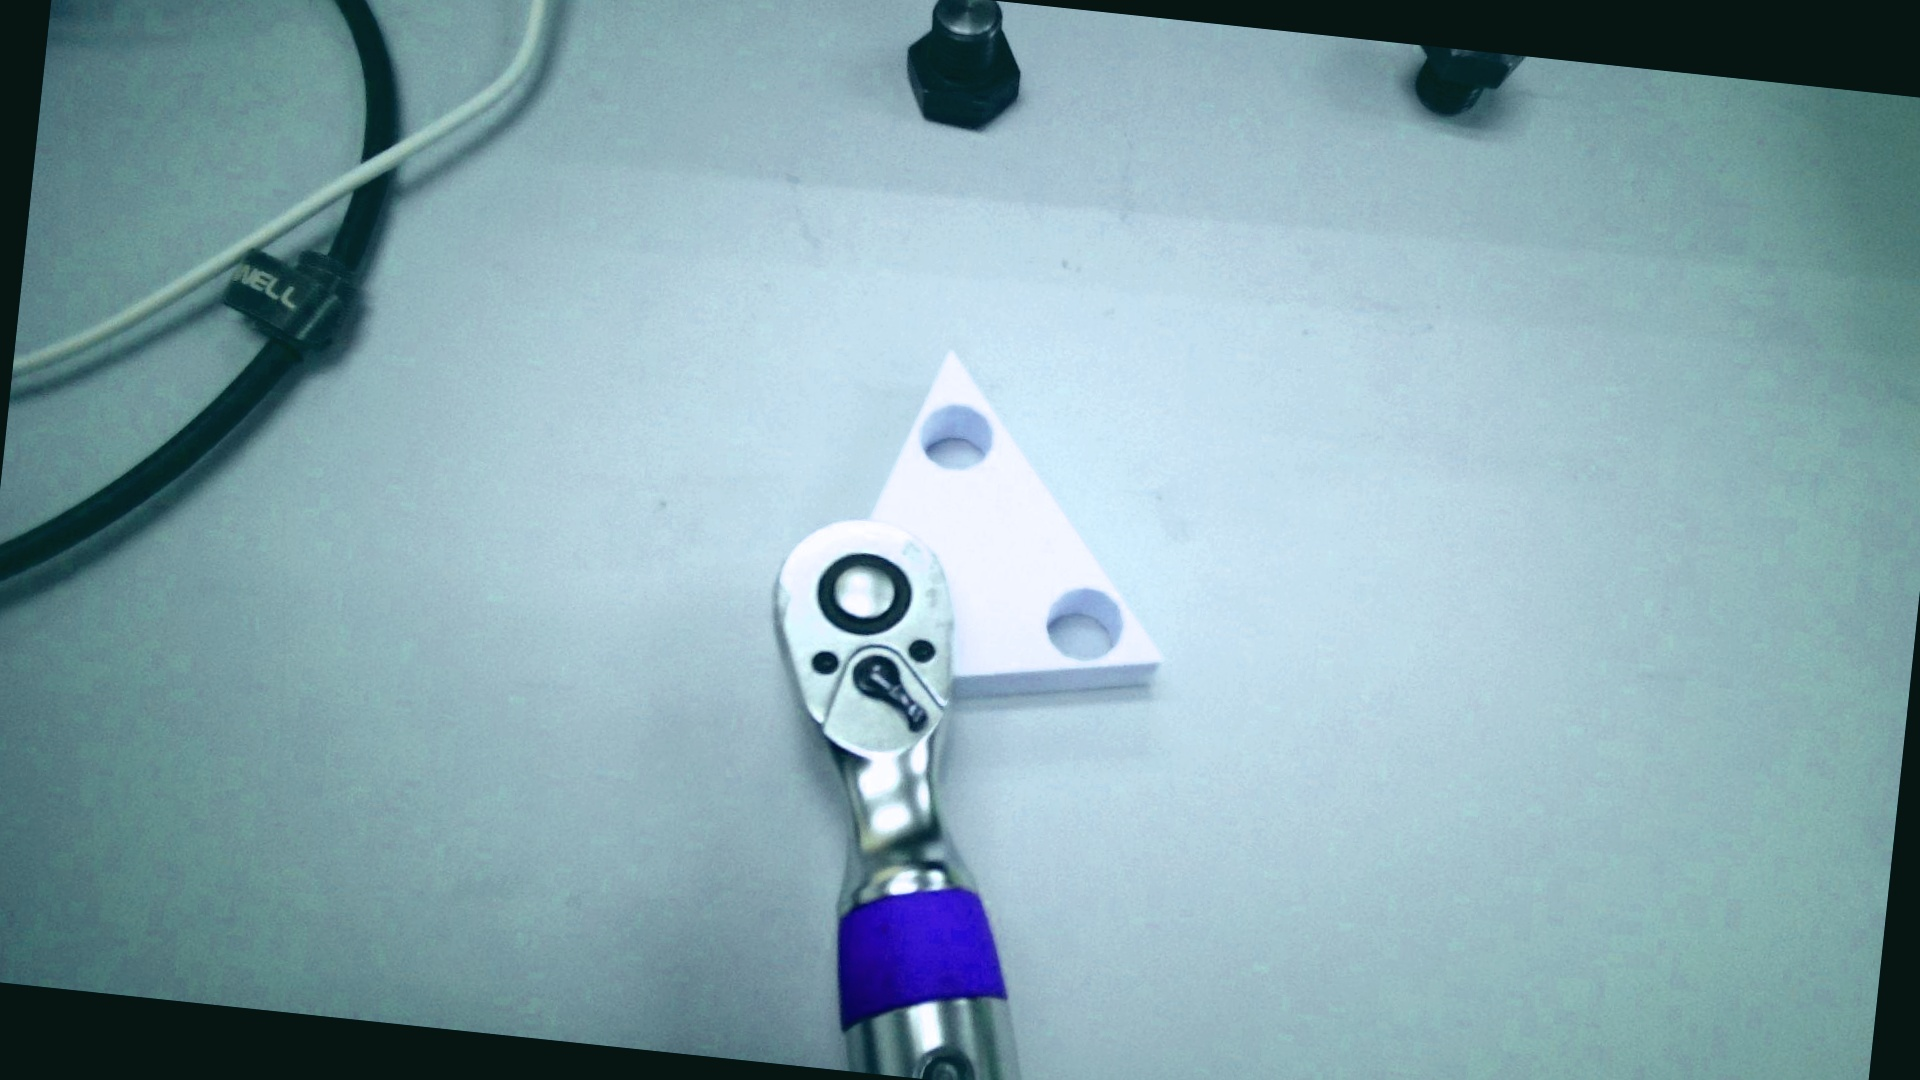hole: (1040, 584, 1126, 665), (914, 400, 997, 473)
obj: (851, 343, 1193, 719)
wrench: (811, 549, 915, 642)
